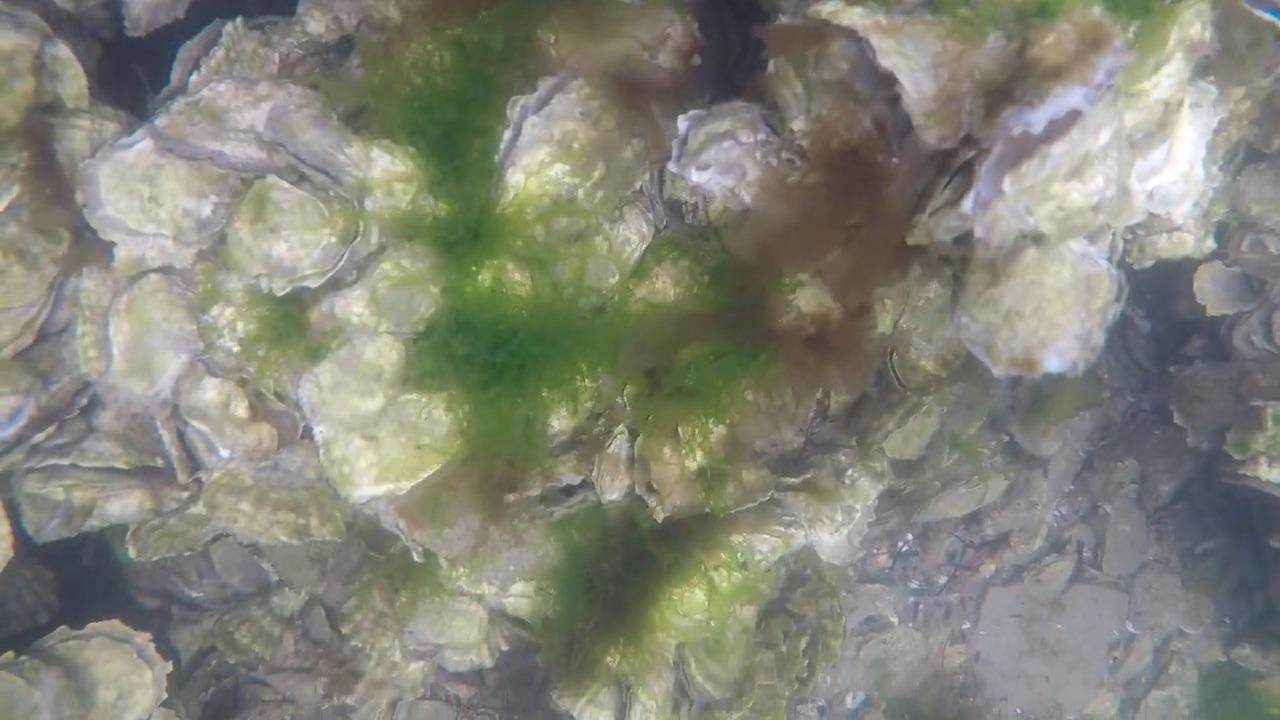Oyster: (131, 68, 377, 215), (292, 318, 468, 508), (964, 80, 1142, 262), (489, 71, 661, 245), (950, 231, 1124, 382), (131, 452, 355, 566), (964, 570, 1126, 715), (75, 126, 242, 265), (628, 377, 784, 524), (658, 98, 809, 235), (214, 171, 370, 300), (101, 264, 218, 411), (0, 620, 168, 719), (759, 449, 891, 567), (170, 360, 290, 468), (394, 581, 521, 670), (0, 233, 75, 365), (997, 375, 1103, 465), (32, 16, 96, 118), (1125, 557, 1202, 641), (1190, 257, 1267, 320), (117, 1, 207, 39)
